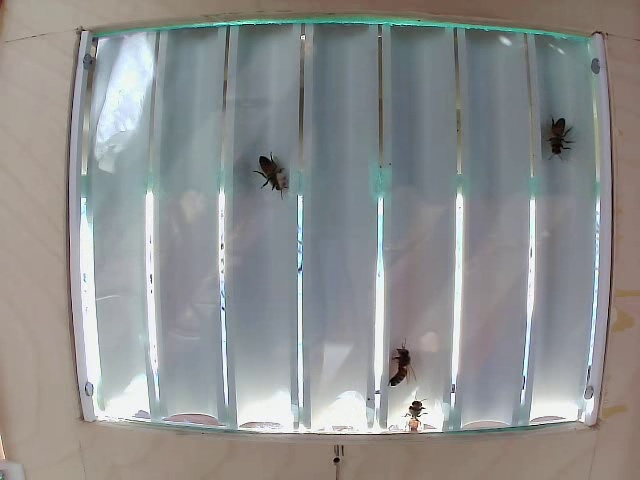bee: (536, 109, 582, 162), (256, 146, 289, 195), (390, 332, 417, 385), (404, 389, 436, 428)
